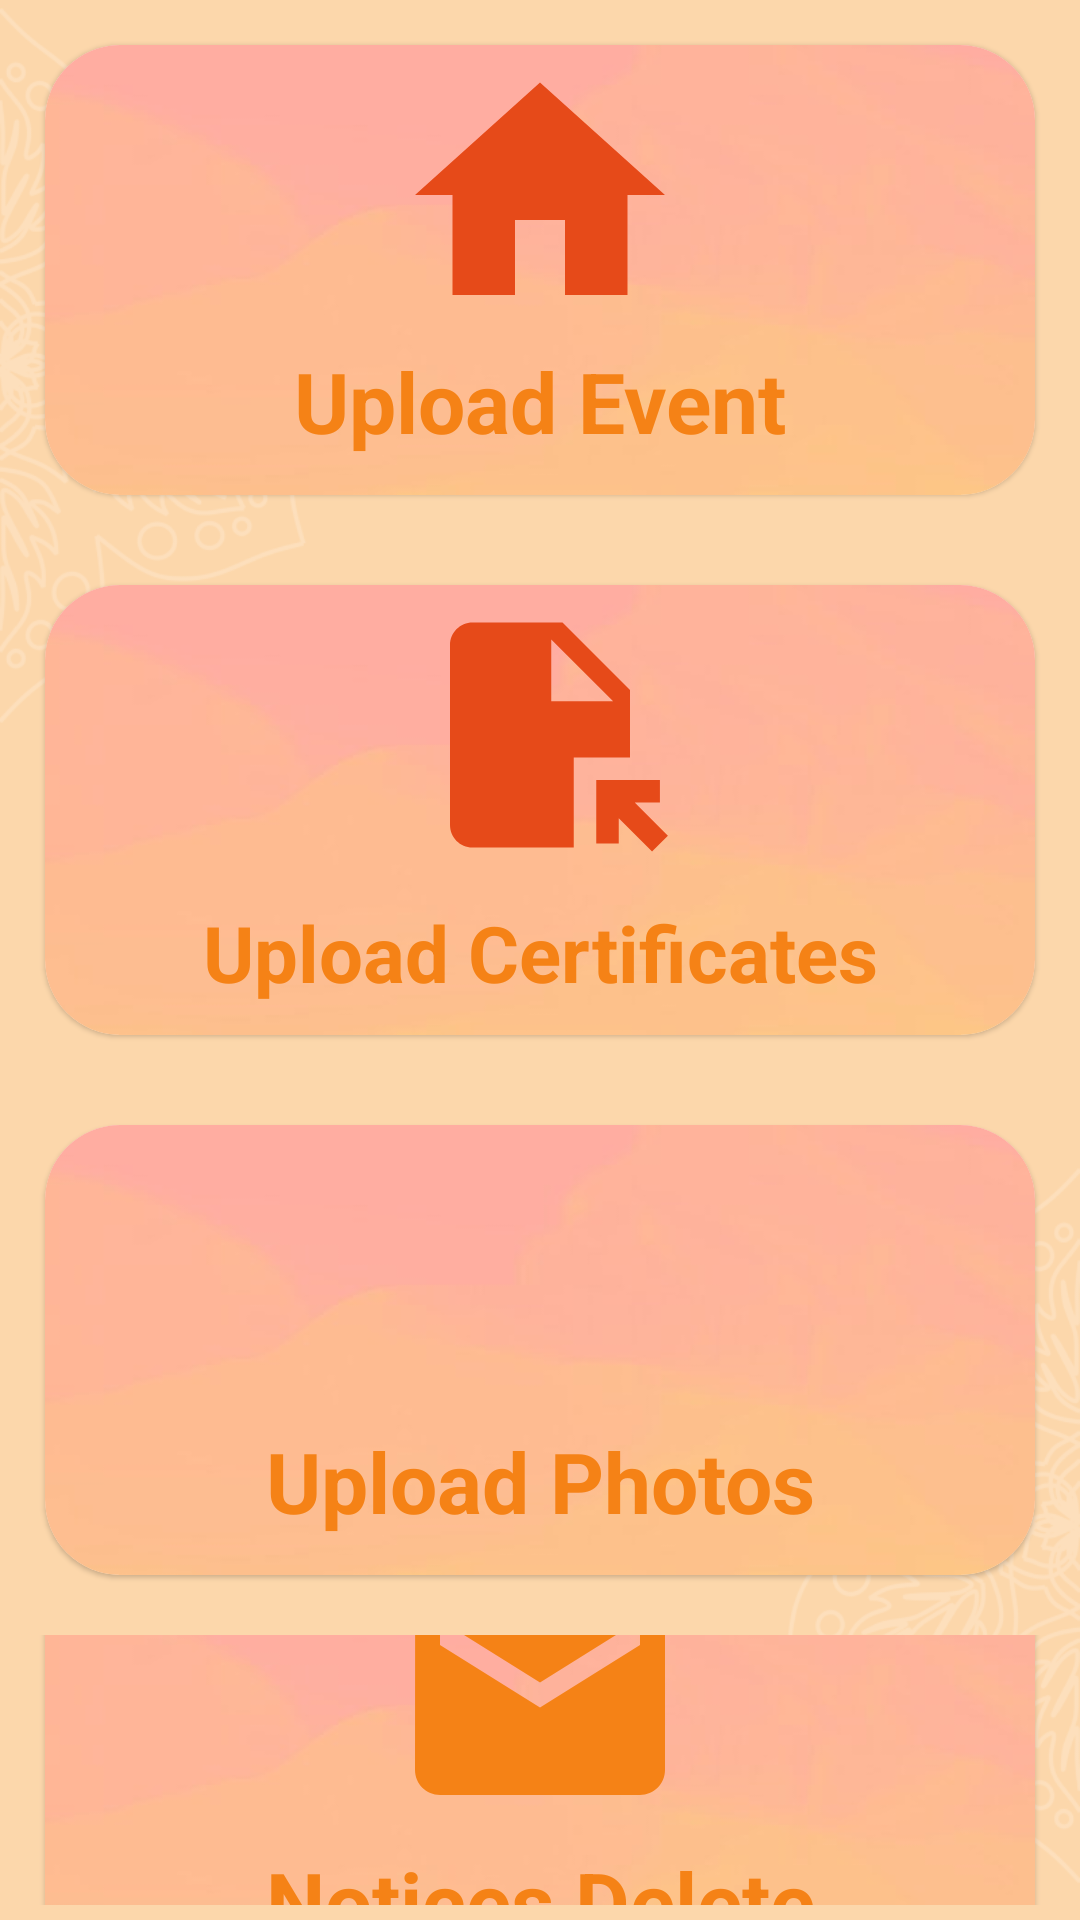

Screen size 1080 × 1920. Icon name, then its box in pixels as [left=x1, top=y1, right=x2, bottom=y2]:
home: [left=415, top=82, right=665, bottom=295]
